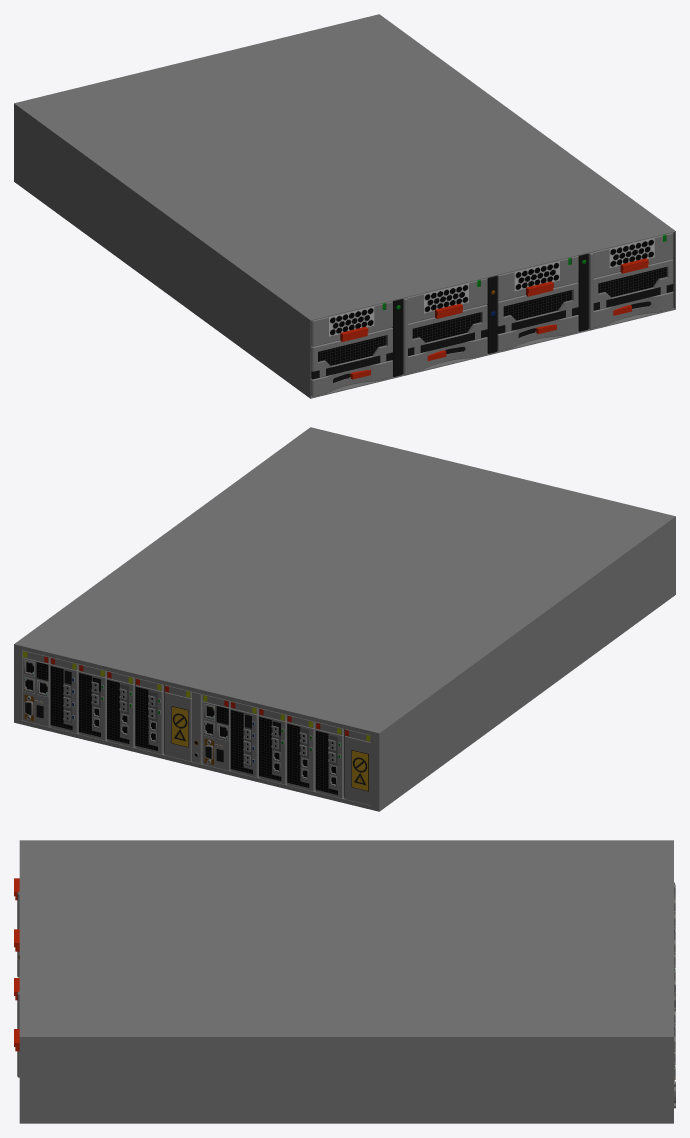
The model's file is DELL EMC_VNX Data Mover Enclosure.fbx.
3 renders of one model, top to bottom at view 1: azimuth 30°, elevation 25°; view 2: azimuth 150°, elevation 25°; view 3: azimuth 270°, elevation 25°, orthographic. The views are drawn at different scales.
Parts seen in each view (by area): view 1: DELL EMC_VNX Data Mover Enclosure; view 2: DELL EMC_VNX Data Mover Enclosure; view 3: DELL EMC_VNX Data Mover Enclosure.
Boxes of the visible parts, x1=… form: DELL EMC_VNX Data Mover Enclosure: x1=14, y1=14, x2=675, y2=398; DELL EMC_VNX Data Mover Enclosure: x1=14, y1=427, x2=675, y2=811; DELL EMC_VNX Data Mover Enclosure: x1=14, y1=840, x2=675, y2=1123.
Size of the model in its own units: 434 by 89 by 617.
12 materials, 3 textured.
